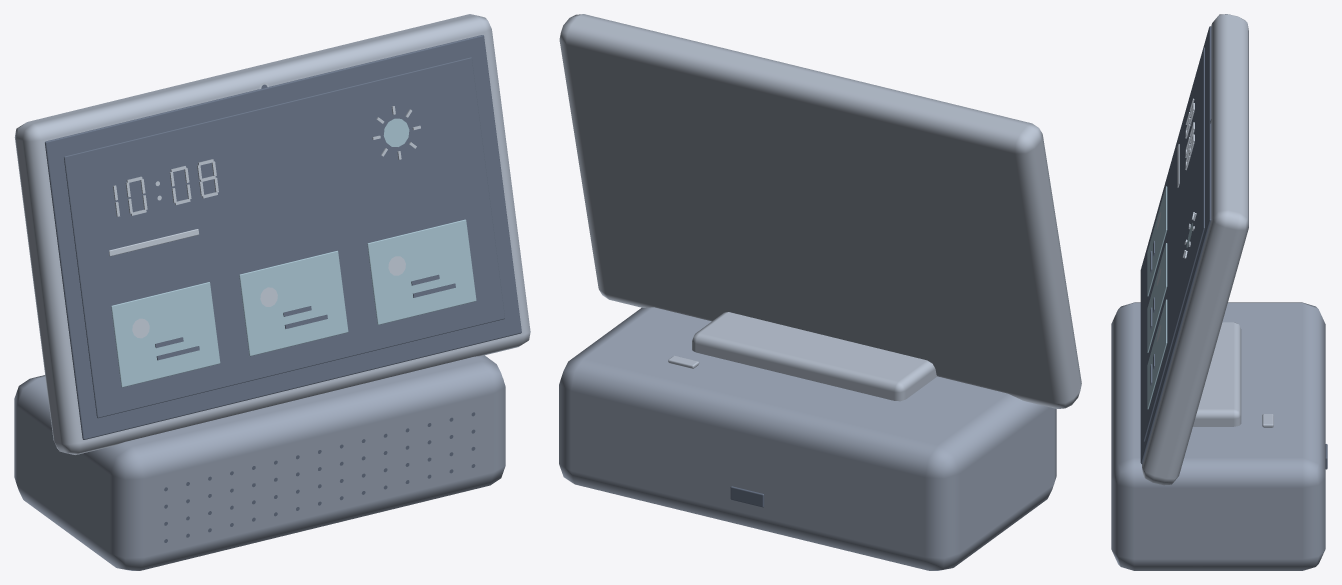
The model's file is smart-display-lite.glb.
The picture shows the model from 3 angles, left to right: view 1: azimuth 30°, elevation 25°; view 2: azimuth 150°, elevation 25°; view 3: azimuth 270°, elevation 25°; orthographic projection. The views are drawn at different scales.
Parts seen in each view (by area): view 1: smart-display-screen, smart-display-speaker, smart-display-body, smart-display-ui, smart-display-icon; view 2: smart-display-body, smart-display-speaker; view 3: smart-display-speaker, smart-display-body, smart-display-screen, smart-display-ui, smart-display-icon.
Boxes of the visible parts, left/top/right/bottom form: smart-display-screen: left=45, top=35, right=521, bottom=542; smart-display-speaker: left=14, top=355, right=505, bottom=570; smart-display-body: left=14, top=14, right=530, bottom=454; smart-display-ui: left=111, top=118, right=476, bottom=387; smart-display-icon: left=109, top=82, right=420, bottom=338; smart-display-body: left=559, top=14, right=1081, bottom=408; smart-display-speaker: left=559, top=307, right=1056, bottom=570; smart-display-speaker: left=1111, top=302, right=1325, bottom=570; smart-display-body: left=1142, top=14, right=1273, bottom=485; smart-display-screen: left=1140, top=26, right=1327, bottom=469; smart-display-ui: left=1147, top=186, right=1192, bottom=409; smart-display-icon: left=1156, top=98, right=1211, bottom=341.
Size of the model in its own units: 0.256 by 0.2217 by 0.1136.
